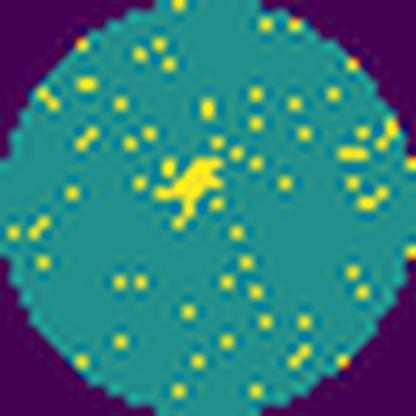Center: (155, 155, 227, 226)
